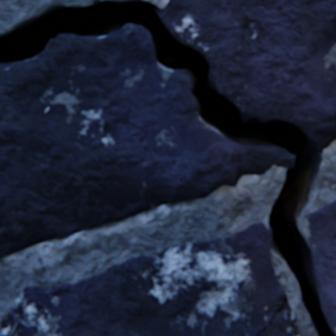brick: (0, 221, 298, 335), (300, 200, 335, 333)
broken_brick: (0, 23, 294, 256), (157, 0, 335, 151)
crack: (0, 0, 335, 335), (255, 296, 286, 335)
